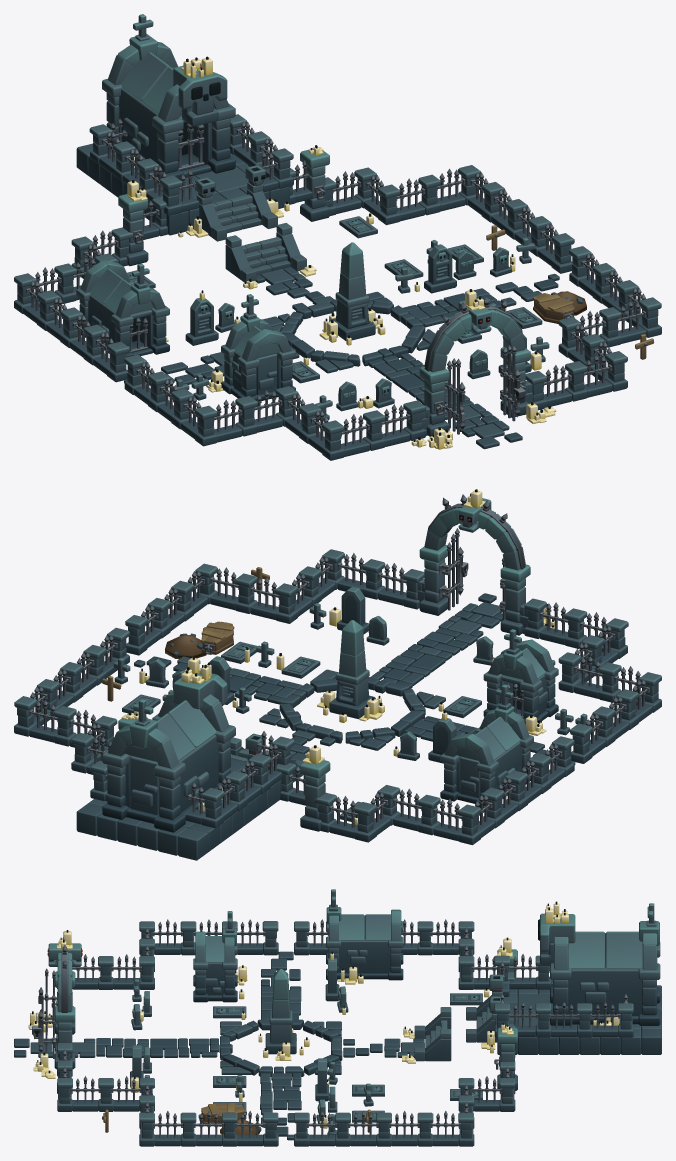
Rendered from sample_building.fbx.
3 views of the same model, one above another, from view 1: azimuth 30°, elevation 25°; view 2: azimuth 150°, elevation 25°; view 3: azimuth 270°, elevation 25° (orthographic). The views are drawn at different scales.
Parts seen in each view (by area): view 1: sample_building; view 2: sample_building; view 3: sample_building.
Part boxes in pixels (x1,y1,x2,y2): sample_building: [14, 14, 661, 460]; sample_building: [14, 489, 661, 860]; sample_building: [14, 889, 661, 1146].
Size of the model in its own units: 2278 by 792 by 3147.
